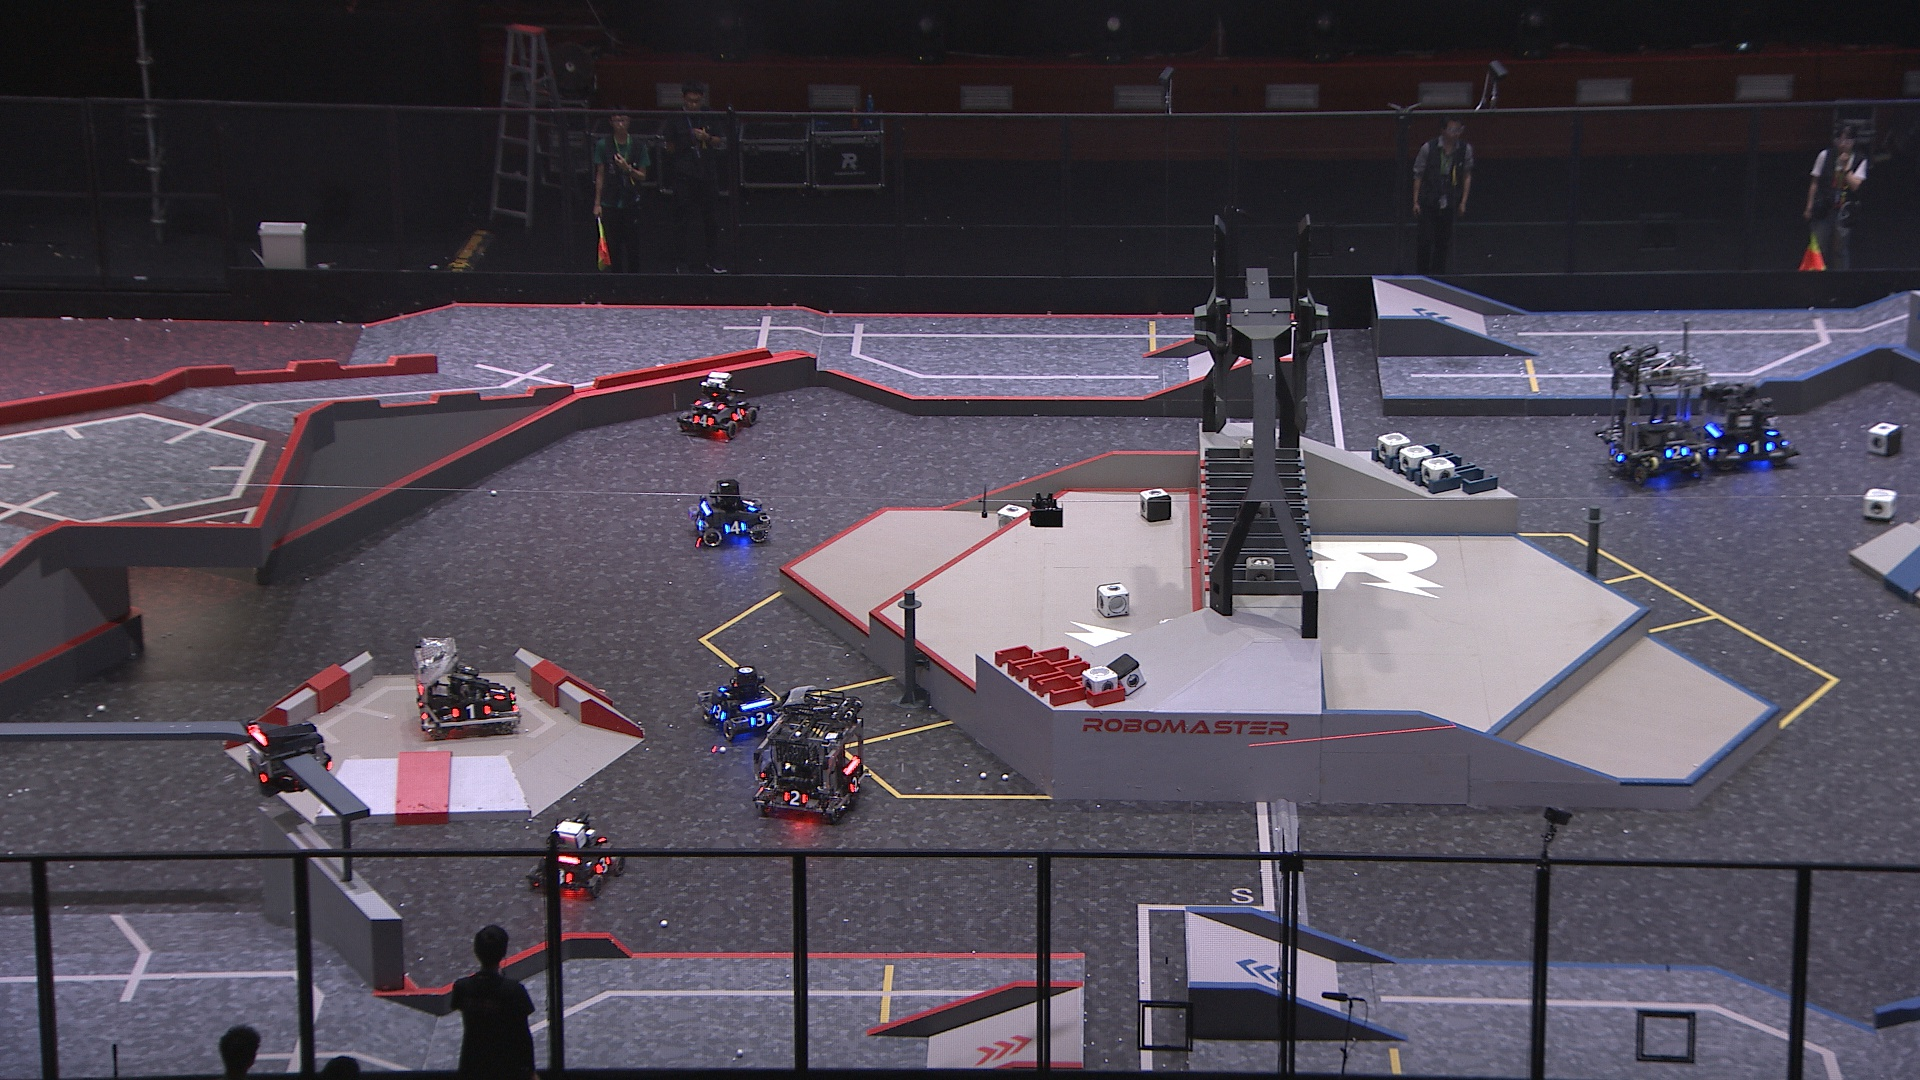armor: (1737, 438, 1776, 458), (451, 703, 491, 721), (245, 757, 268, 785), (487, 680, 510, 704), (782, 787, 807, 808), (749, 711, 771, 731), (724, 520, 749, 537), (593, 855, 613, 876), (690, 411, 713, 429), (1665, 444, 1688, 462), (741, 496, 760, 516), (555, 869, 575, 887), (694, 400, 727, 410), (711, 702, 727, 723), (1607, 447, 1625, 465), (847, 775, 864, 793), (731, 406, 745, 423)
car: (1596, 345, 1721, 485), (746, 690, 865, 823), (409, 633, 522, 742), (1700, 384, 1799, 477), (526, 814, 626, 903), (698, 665, 783, 740), (678, 372, 764, 439), (688, 479, 770, 546)
watcher: (243, 721, 332, 798)
